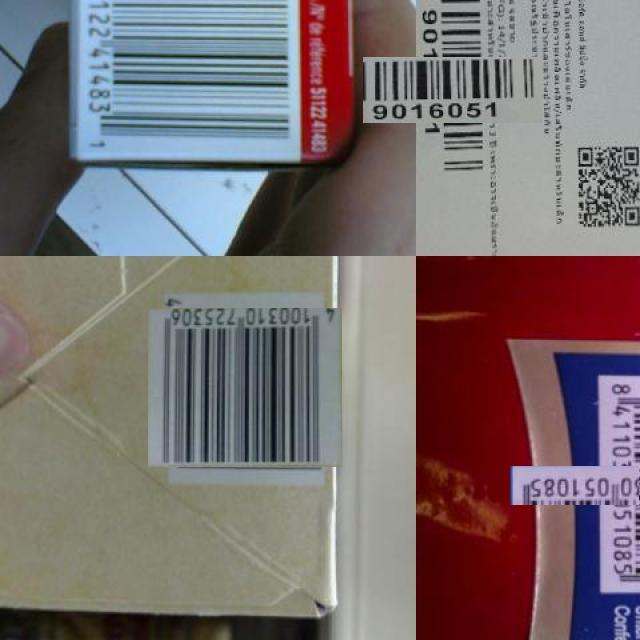Barcode: (76, 0, 297, 160), (157, 299, 334, 477), (390, 28, 514, 152), (555, 421, 640, 551)
